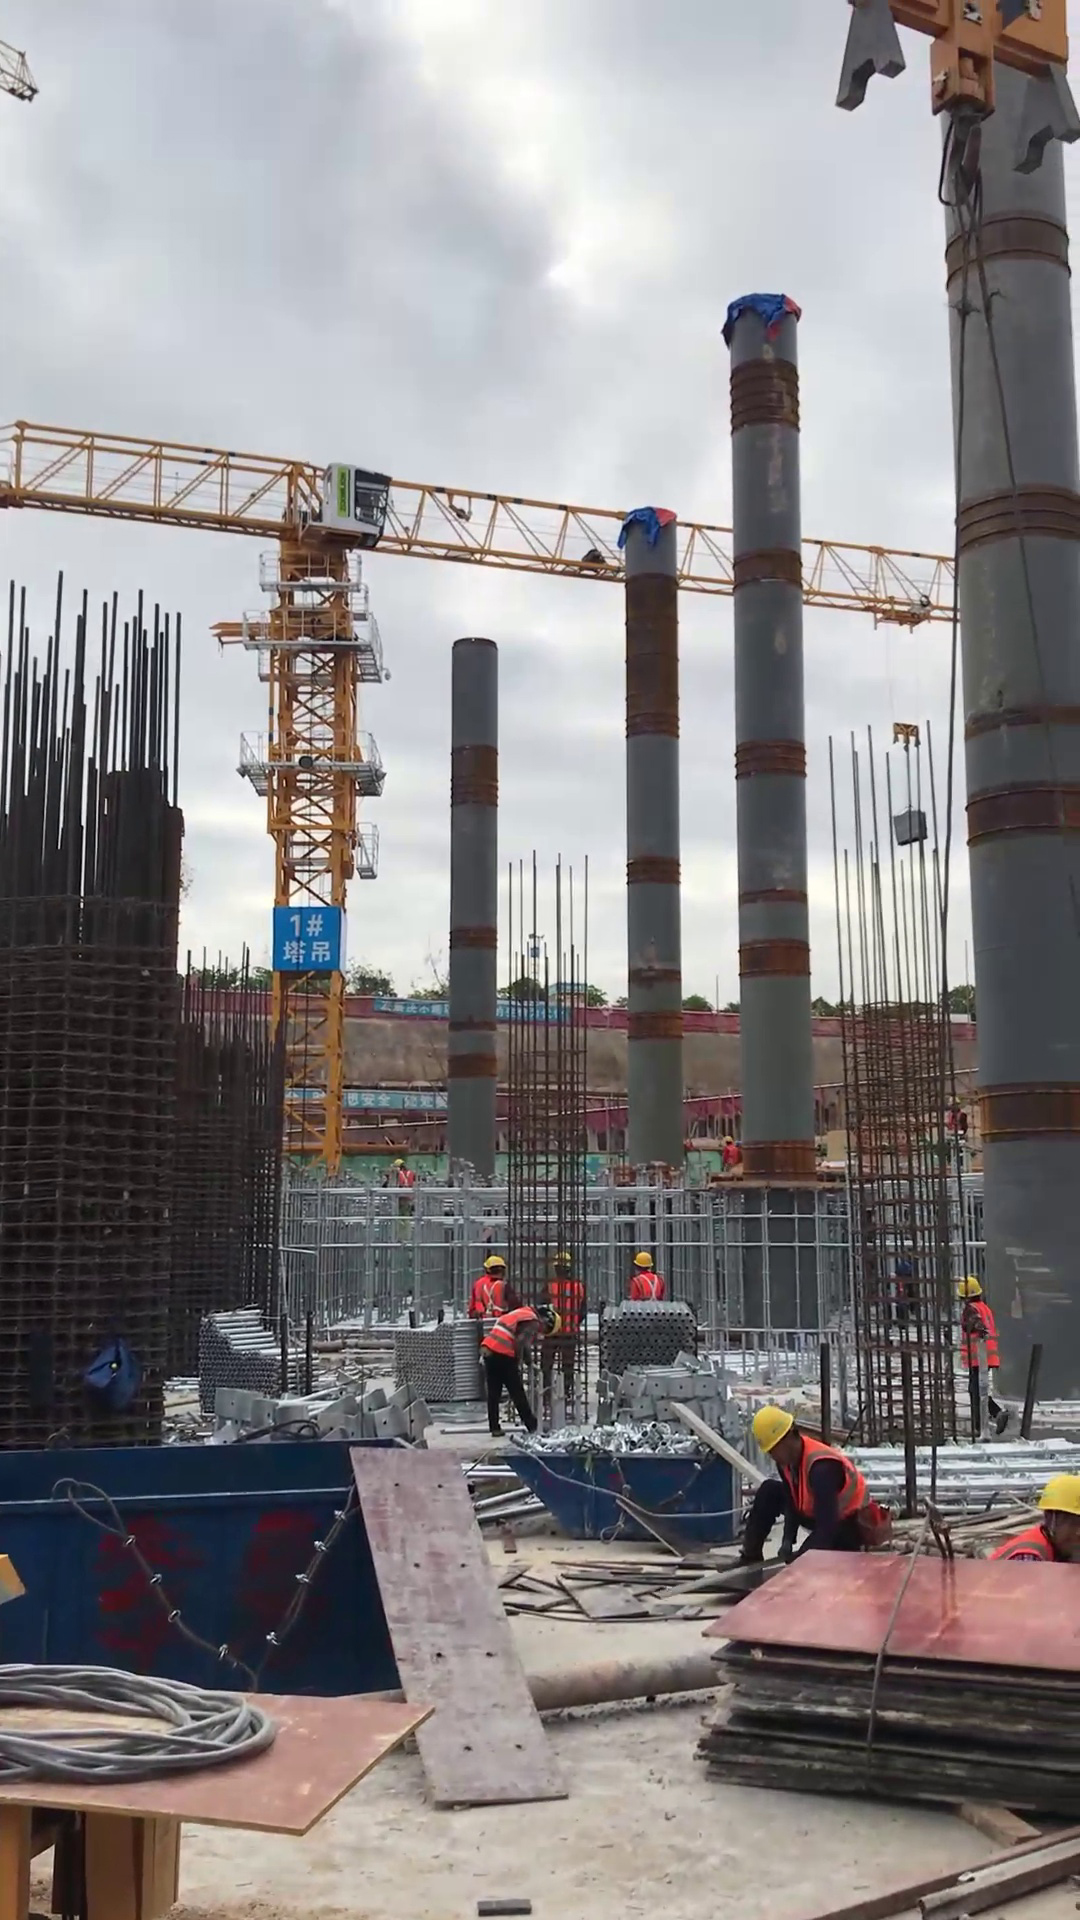helmet: (742, 1403, 801, 1457), (1032, 1465, 1080, 1517), (536, 1301, 567, 1340), (951, 1269, 985, 1301), (478, 1247, 504, 1279), (635, 1249, 657, 1274), (393, 1153, 411, 1171)
person: (725, 1394, 908, 1588), (478, 1300, 575, 1443), (942, 1268, 1021, 1442), (971, 1464, 1080, 1583), (462, 1242, 521, 1339), (617, 1243, 671, 1313), (385, 1147, 425, 1225)
vest: (778, 1436, 887, 1538), (479, 1304, 542, 1364), (961, 1300, 1010, 1375), (994, 1522, 1061, 1567), (471, 1272, 518, 1317), (626, 1275, 664, 1303), (385, 1172, 421, 1201)
